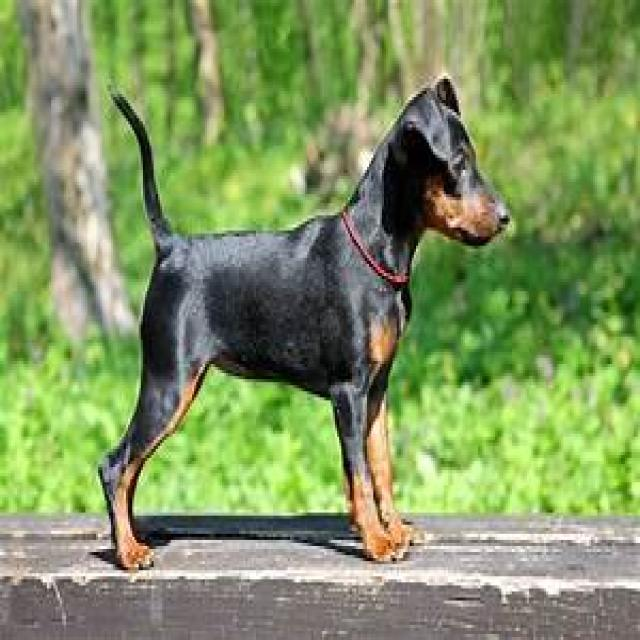dog: (100, 78, 509, 568)
